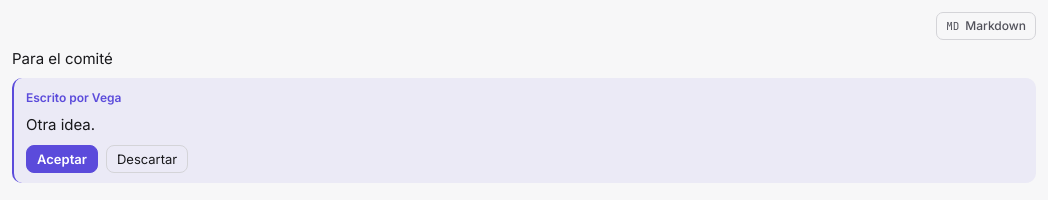
Test: what an assistant wrote › is gone with «Descartar», and nothing of it reaches the text
Click the button "Descartar" at (147, 159), box [106,145,188,173]
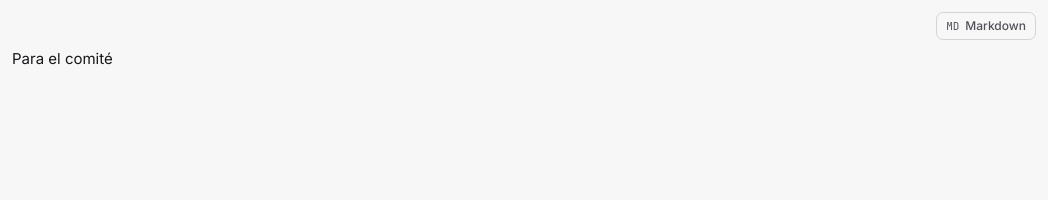
Expected: the text box labelled "Para el comité" is shown, [12,49,113,68]
Now the text "Escrito por Vega" is gone
